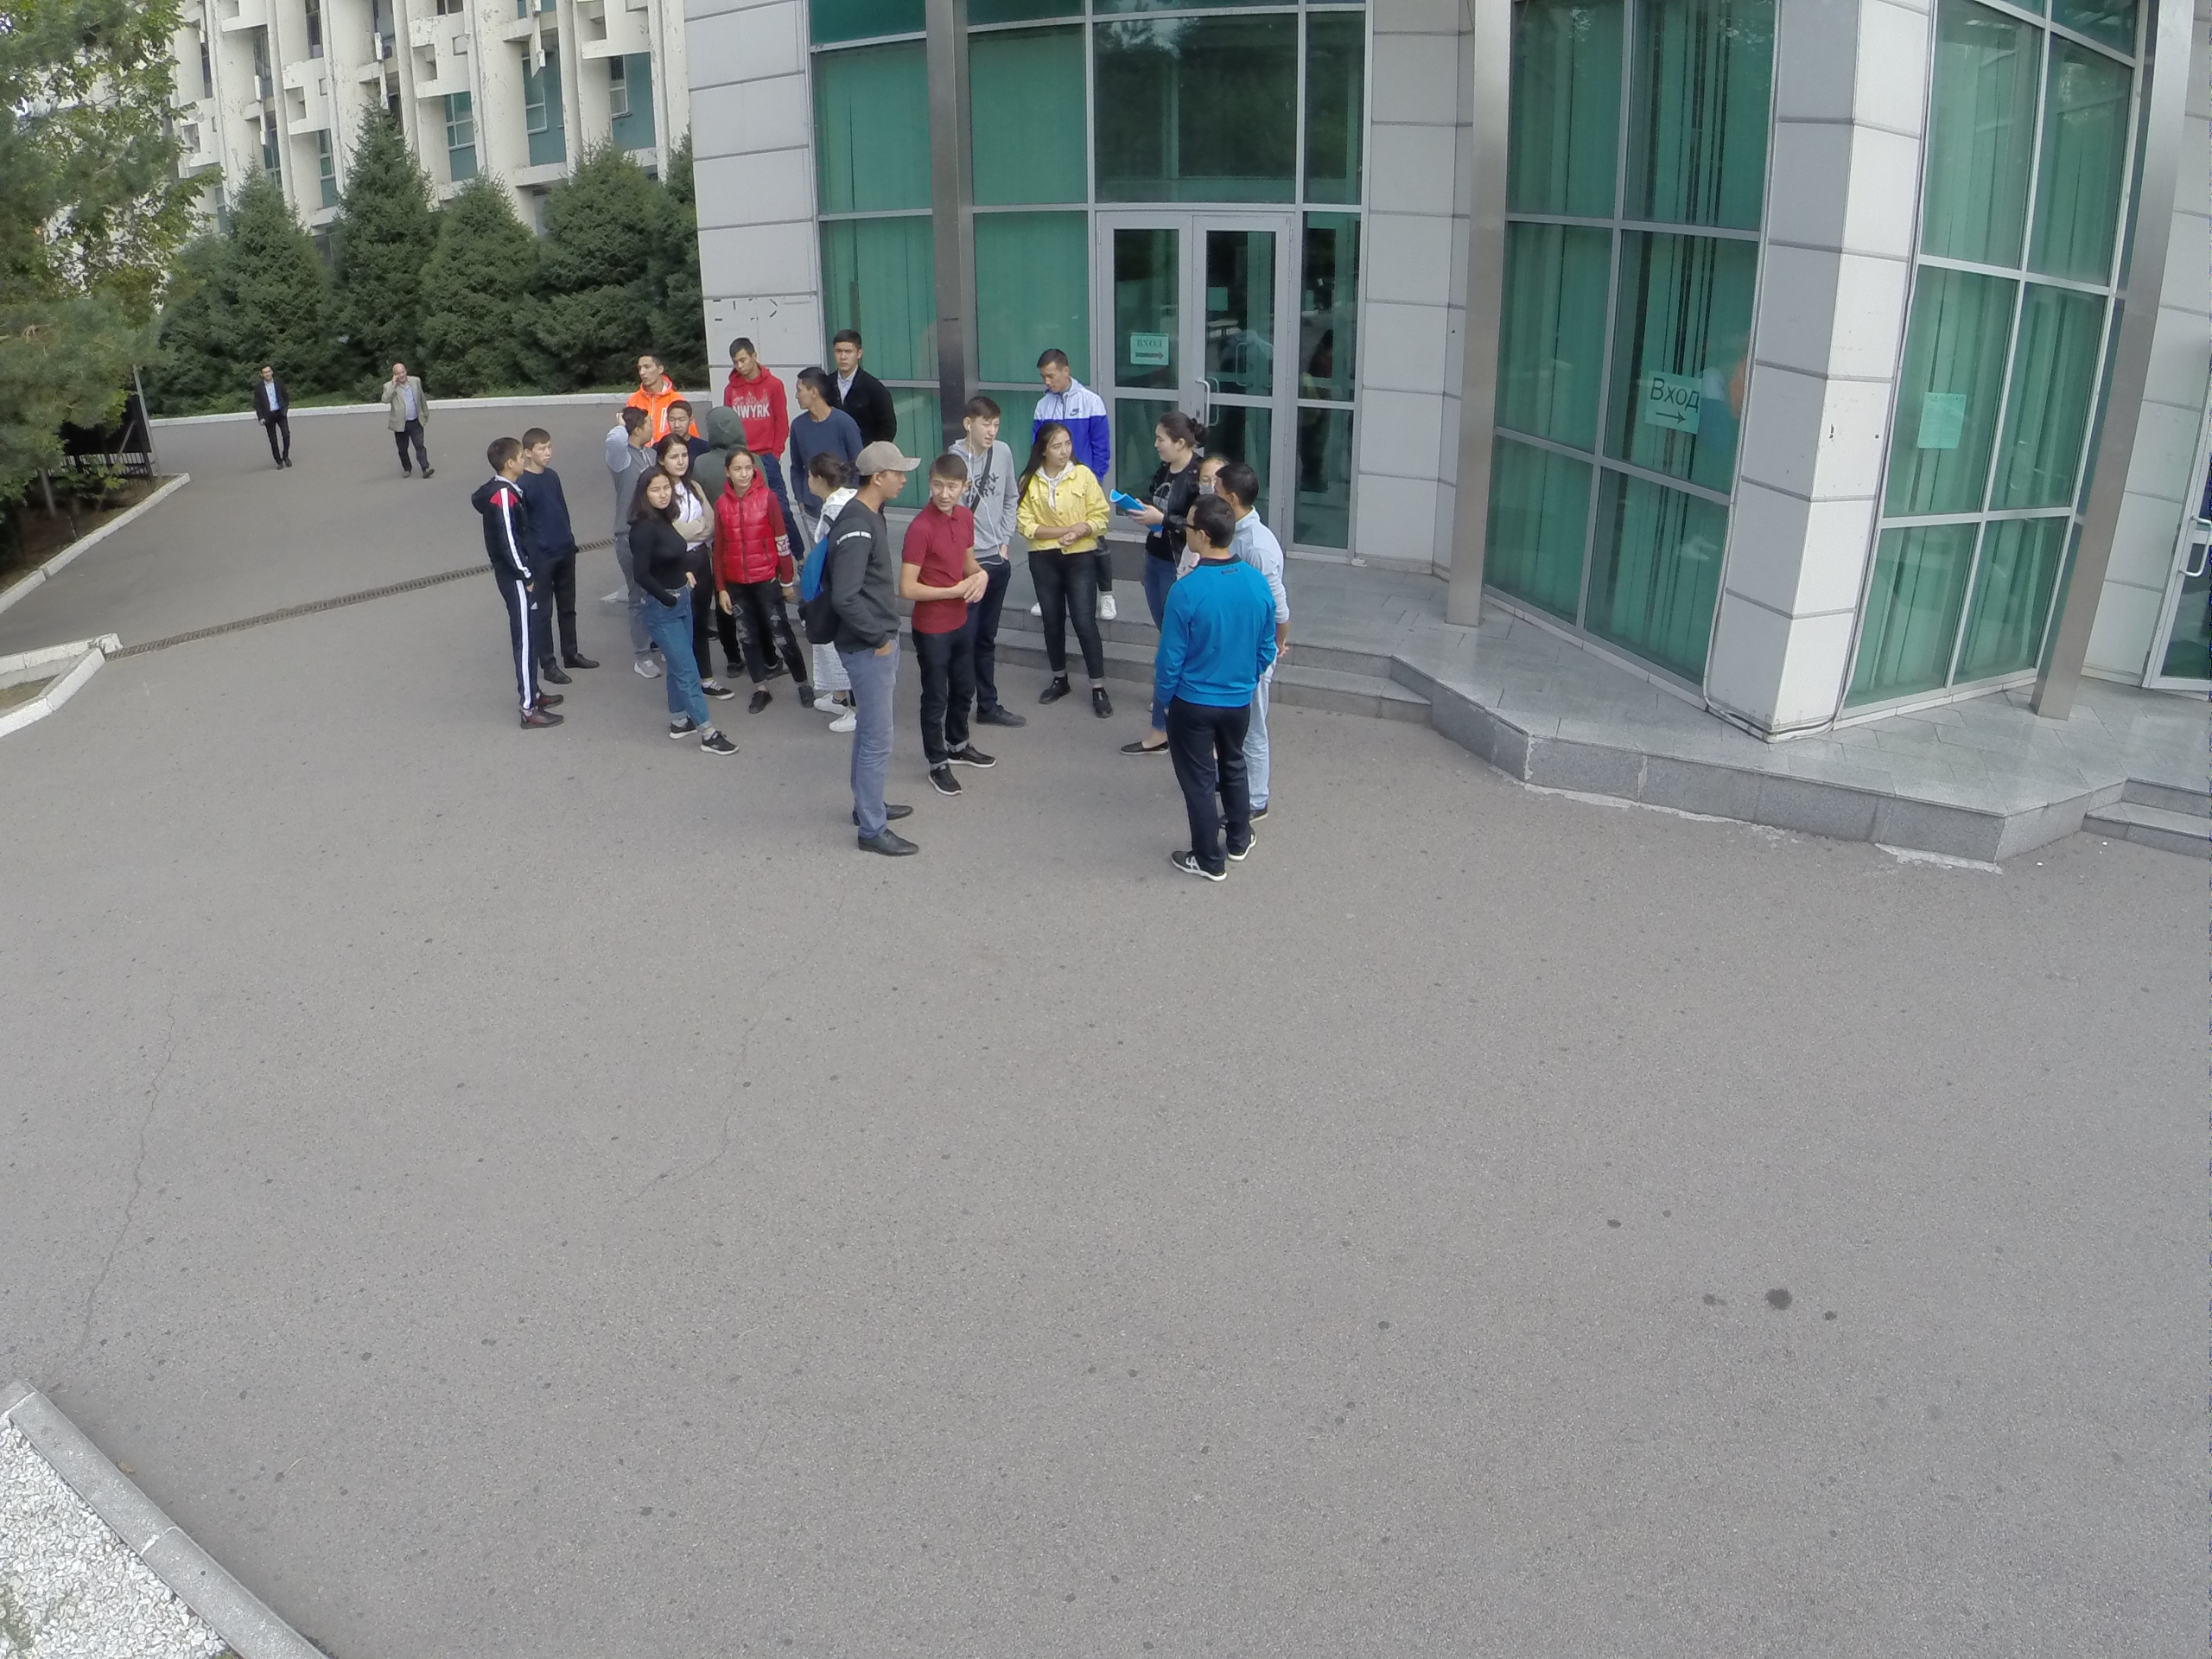person: (810, 435, 924, 863), (1155, 512, 1270, 886), (933, 396, 1039, 730), (1020, 433, 1131, 728), (621, 478, 731, 760), (907, 468, 995, 791), (477, 439, 563, 741), (715, 455, 804, 700), (518, 428, 594, 687), (374, 361, 440, 480), (1136, 404, 1197, 527), (1024, 350, 1107, 433), (653, 452, 714, 553), (783, 362, 853, 448), (245, 359, 297, 468), (829, 330, 893, 412), (712, 340, 778, 414), (624, 348, 669, 425)
